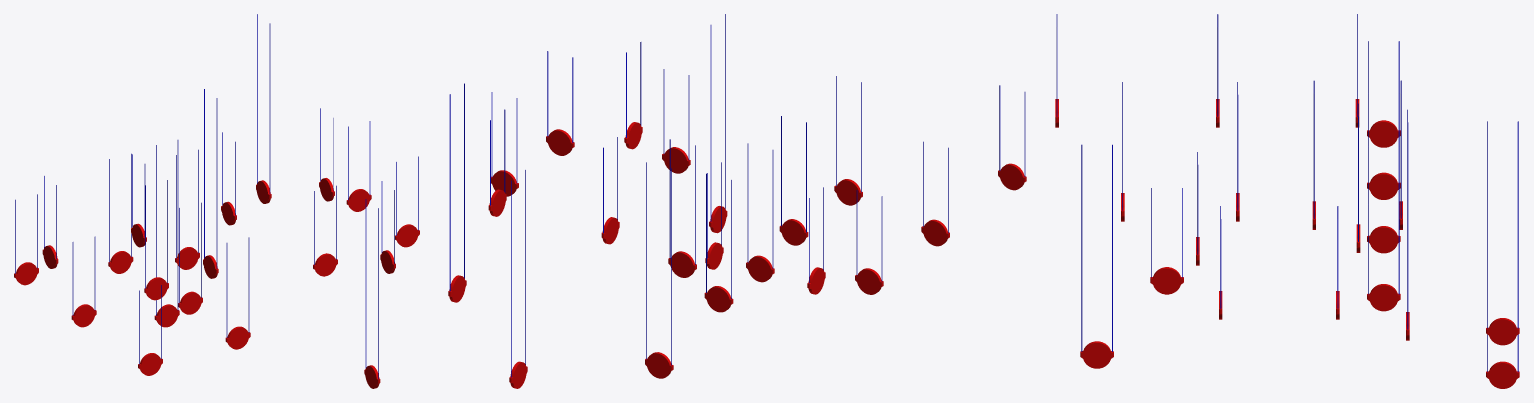
The model's file is SM_ValveRoom_PipeCeilingMount.fbx.
The picture shows the model from 3 angles, left to right: view 1: azimuth 30°, elevation 25°; view 2: azimuth 150°, elevation 25°; view 3: azimuth 270°, elevation 25°; orthographic projection. The views are drawn at different scales.
Visible parts, largest first — view 1: SM_ValveRoom_PipeCeilingMount; view 2: SM_ValveRoom_PipeCeilingMount; view 3: SM_ValveRoom_PipeCeilingMount.
Part boxes in pixels (<box>): SM_ValveRoom_PipeCeilingMount: <box>14,14,419,388</box>; SM_ValveRoom_PipeCeilingMount: <box>448,14,1026,388</box>; SM_ValveRoom_PipeCeilingMount: <box>1055,14,1519,388</box>.
Bounding box in the file's own units: 1645 × 1110 × 1567.
